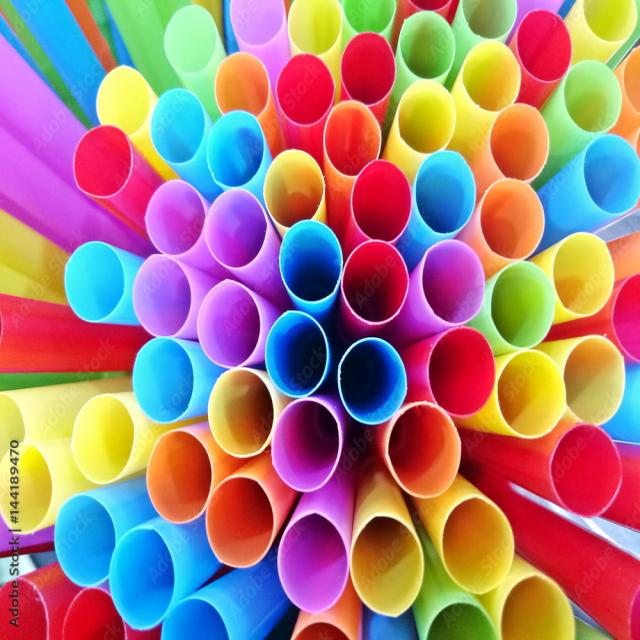plastic: (66, 103, 148, 252)
